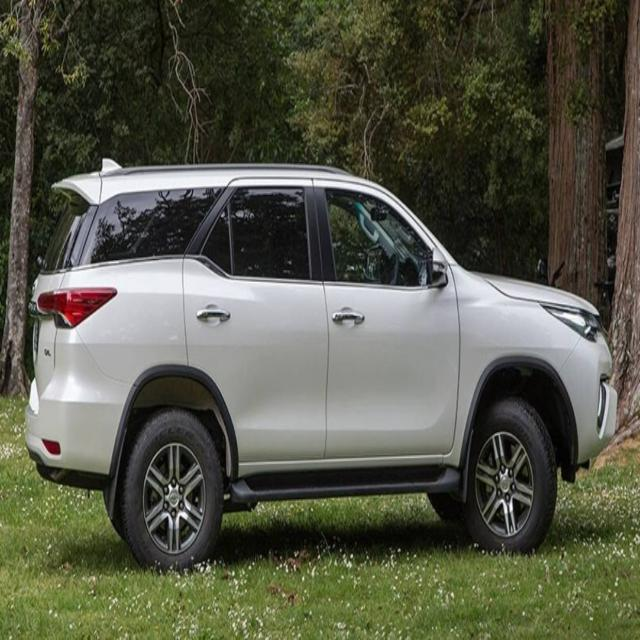light_vehicle: (25, 159, 619, 572)
